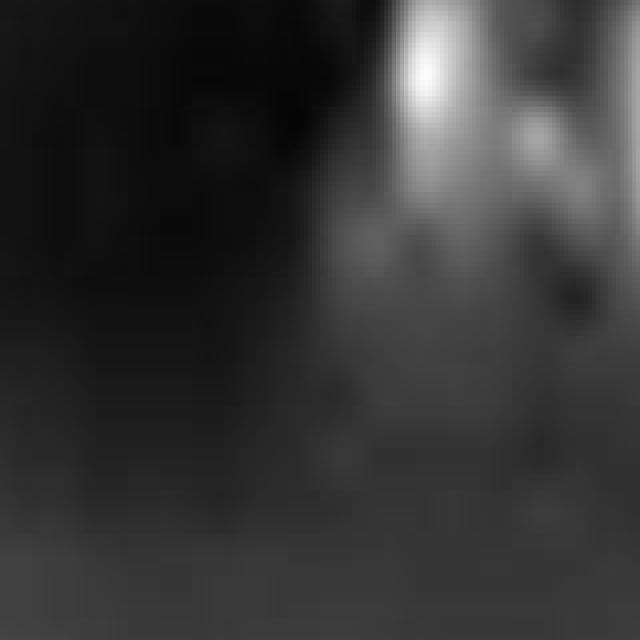person: (289, 1, 525, 326), (585, 1, 640, 332)
